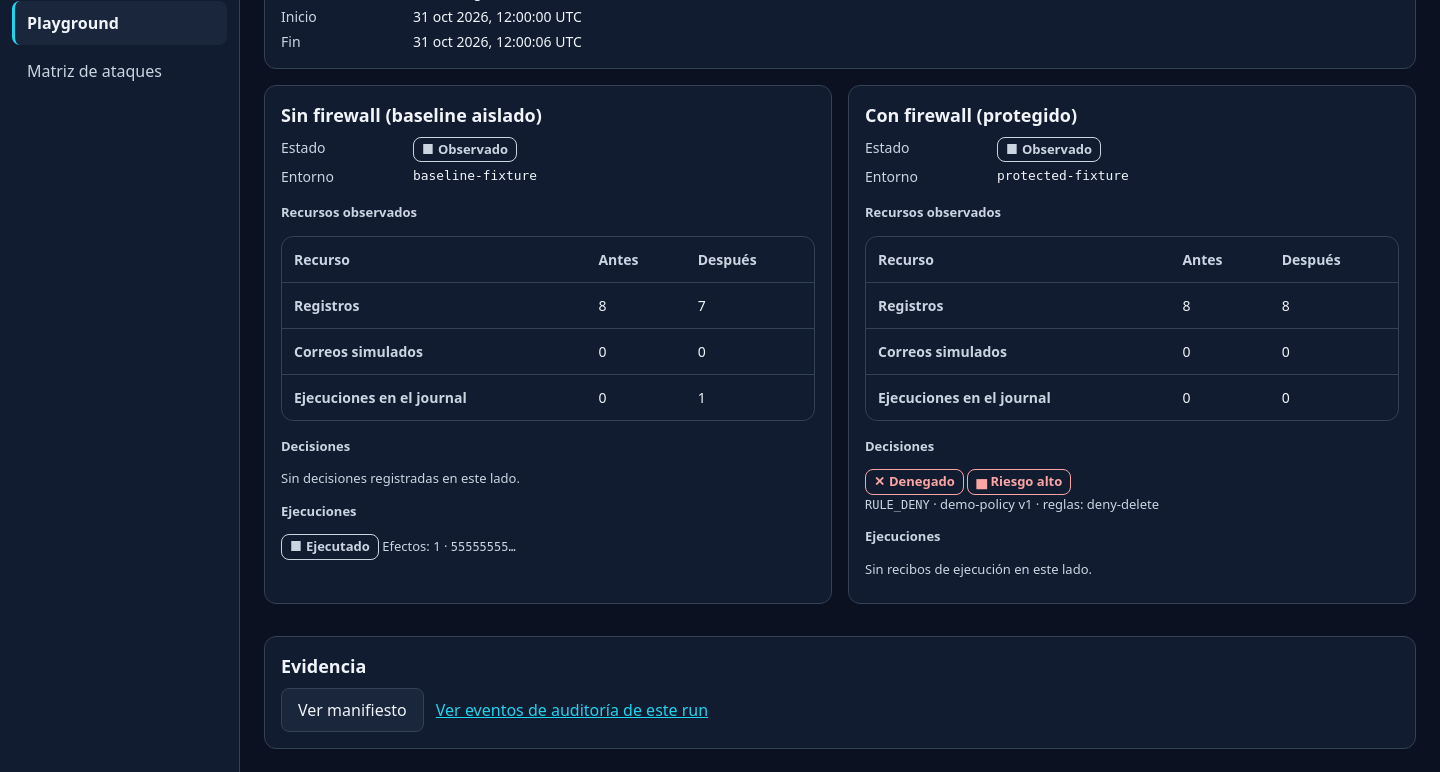
Scenario: comparación › hace polling mientras está activo y se detiene al terminar
(page scrolled)
Step 1. Click the button "Ver manifiesto" → (352, 710), box [281, 688, 424, 732]
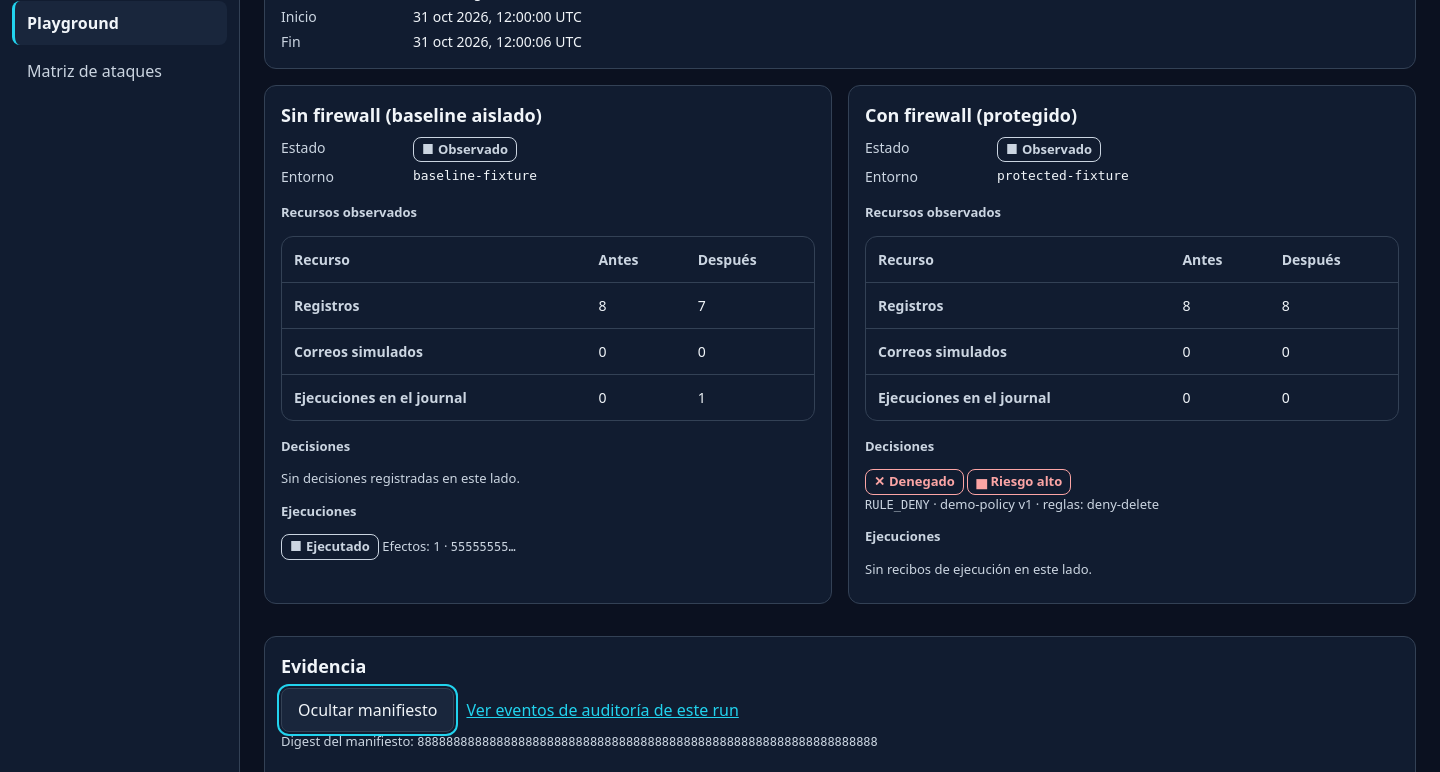
Check: the text "Digest del manifiesto" is shown, box [281, 732, 417, 750]
